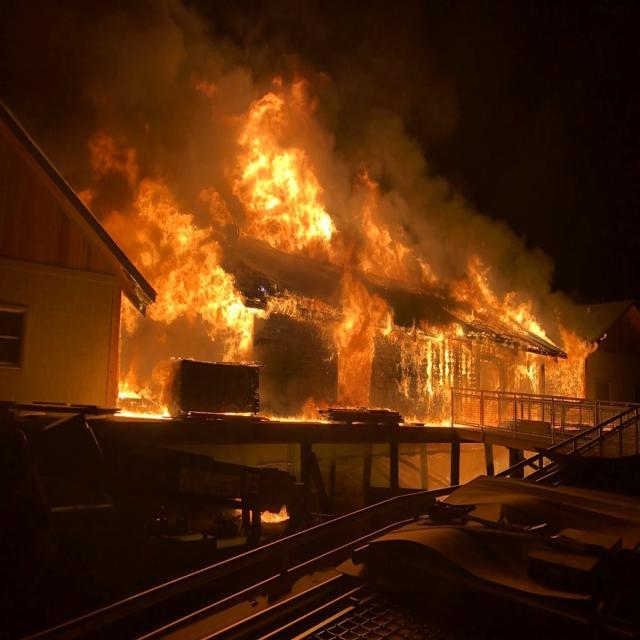Fire: (441, 290, 596, 416), (126, 212, 234, 332), (244, 148, 312, 248), (332, 298, 382, 396)
Smoke: (136, 36, 214, 156)
